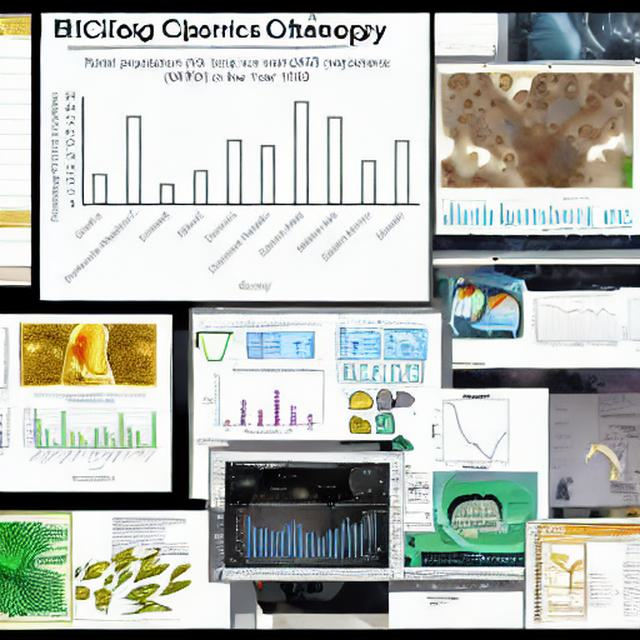Graph: (42, 52, 426, 298), (19, 390, 161, 473), (199, 366, 321, 437), (421, 390, 528, 470), (234, 502, 333, 568), (529, 293, 619, 348), (439, 197, 496, 231)
